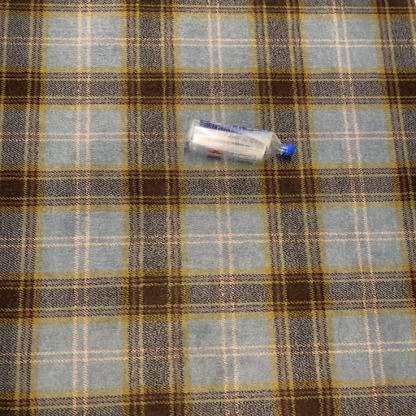trash: (183, 118, 301, 165)
